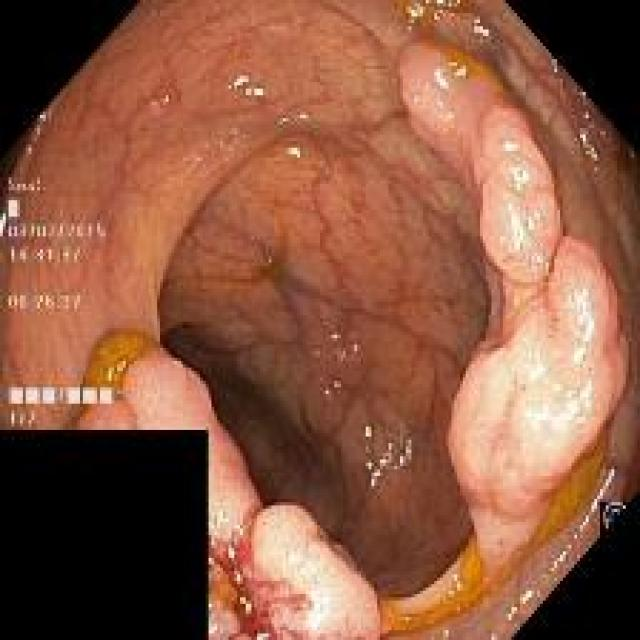Polyps: (399, 40, 629, 579), (78, 333, 381, 640)
